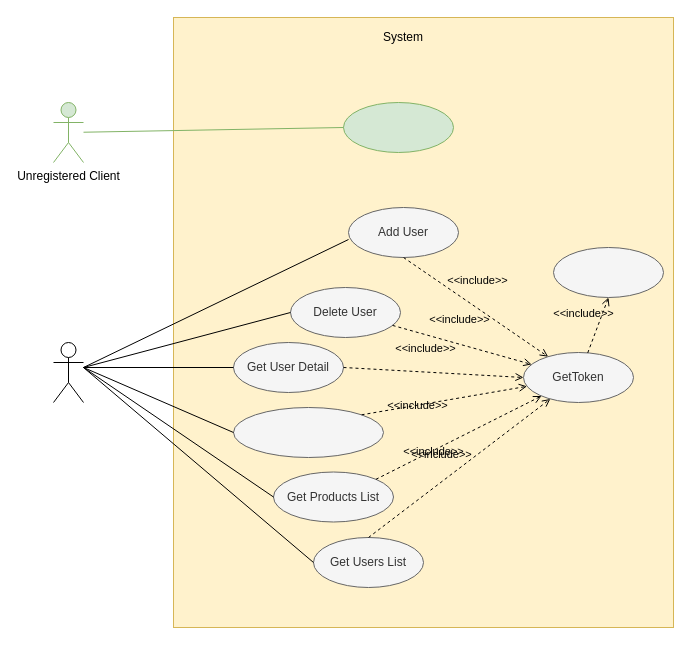
Image size: 691x645. Some labels were removed from this diagram. The shapes that lost their labels are listed below. From the top down, each one's centre as x and y in pixels, then its label:
pixel 398 127: Register
pixel 608 272: Login
pixel 68 372: Client
pixel 308 432: Get Product Detail
